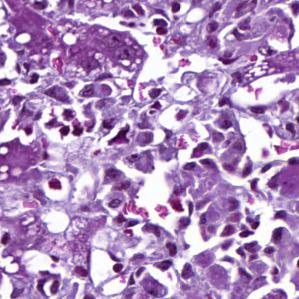inflammation: (40, 99, 92, 142)
